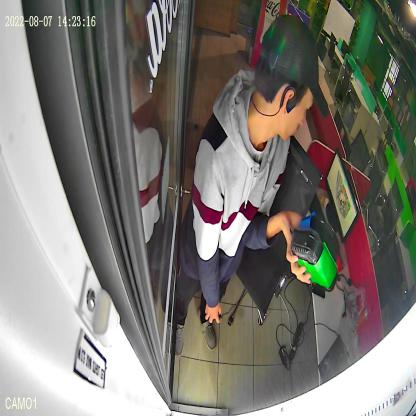blue: (300, 210, 340, 262)
green: (290, 229, 338, 289)
